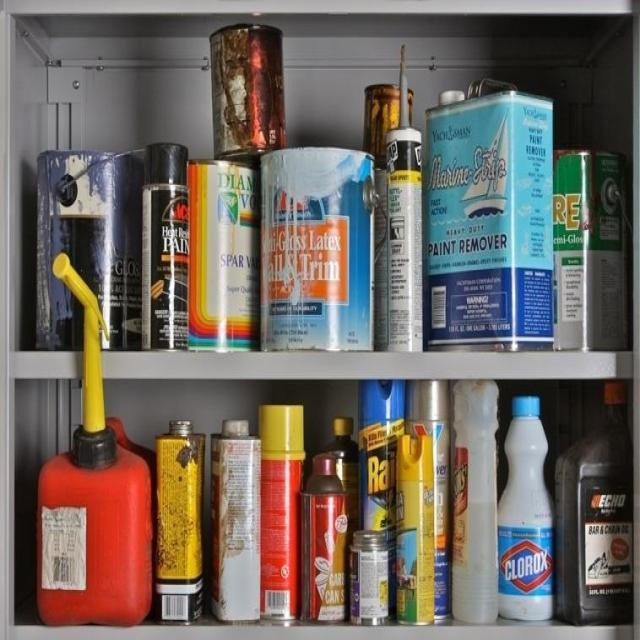Plastics: (454, 373, 640, 624), (34, 436, 146, 614)
can: (15, 9, 621, 360), (155, 388, 444, 619)
